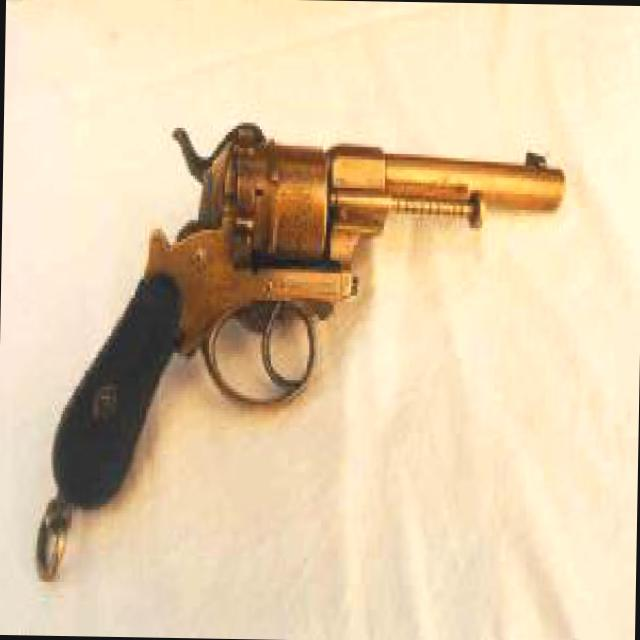handgun: (48, 109, 562, 514)
